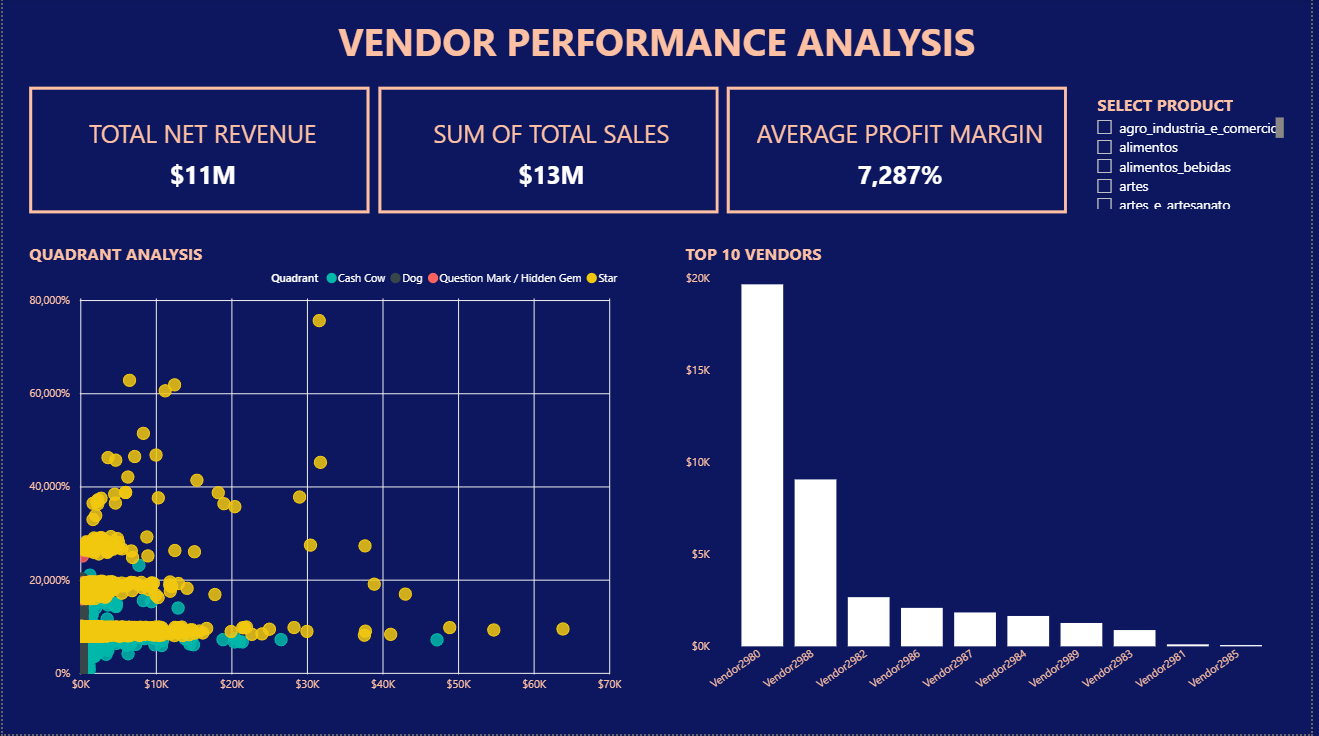

Layout of this report page (visuals, bound fields, positions):
{"tool":"powerbi","page":{"name":"Page 1","canvas":[1280,720],"ordinal":0},"visuals":[{"type":"scatterChart","title":"QUADRANT ANALYSIS","fields":{"X":["Sum(data_for_dashboard.total_sales_dollars)"],"Y":["Sum(data_for_dashboard.profit_margin)"],"Series":["data_for_dashboard.quadrant"],"Category":["data_for_dashboard.product_id"]},"box":[20.8,238.5,589.4,450],"z":0},{"type":"cardVisual","fields":{"Data":["Sum(data_for_dashboard.net_revenue)","Sum(data_for_dashboard.total_sales_dollars)","Avg(data_for_dashboard.profit_margin)"]},"box":[20.8,81.9,1027.2,134.5],"z":1},{"type":"columnChart","title":"TOP 10 VENDORS","fields":{"Y":["Sum(data_for_dashboard.total_sales_dollars)"],"Category":["Seller Map.Vendor Name"]},"box":[662.8,238.5,595.5,450],"z":2},{"type":"slicer","fields":{"Values":["data_for_dashboard.product_category_name"]},"box":[1057.8,88,200.5,123.5],"z":3},{"type":"textbox","box":[100.1,12.1,1078.6,70],"z":4}]}

Visuals, with their boxes in screenshot pixels (x1, y1, x2, y2), scaled from the page's 1280x720 canvas onto the 1319x736 screenshot:
"QUADRANT ANALYSIS" scatterChart: Rect(21, 244, 629, 704)
cardVisual - Sum(data_for_dashboard.net_revenue) x Sum(data_for_dashboard.total_sales_dollars): Rect(21, 84, 1080, 221)
"TOP 10 VENDORS" columnChart: Rect(683, 244, 1297, 704)
slicer - data_for_dashboard.product_category_name: Rect(1090, 90, 1297, 216)
textbox: Rect(103, 12, 1215, 84)
